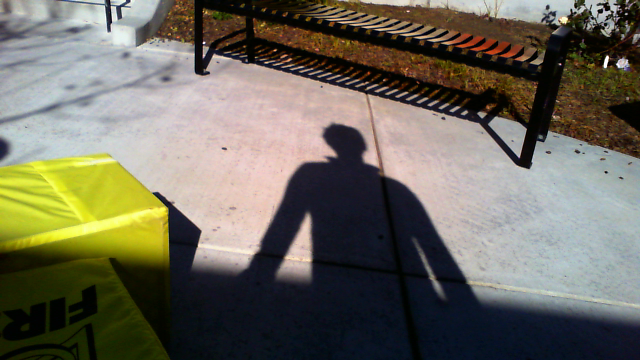cube: (1, 150, 170, 352), (1, 256, 172, 360)
